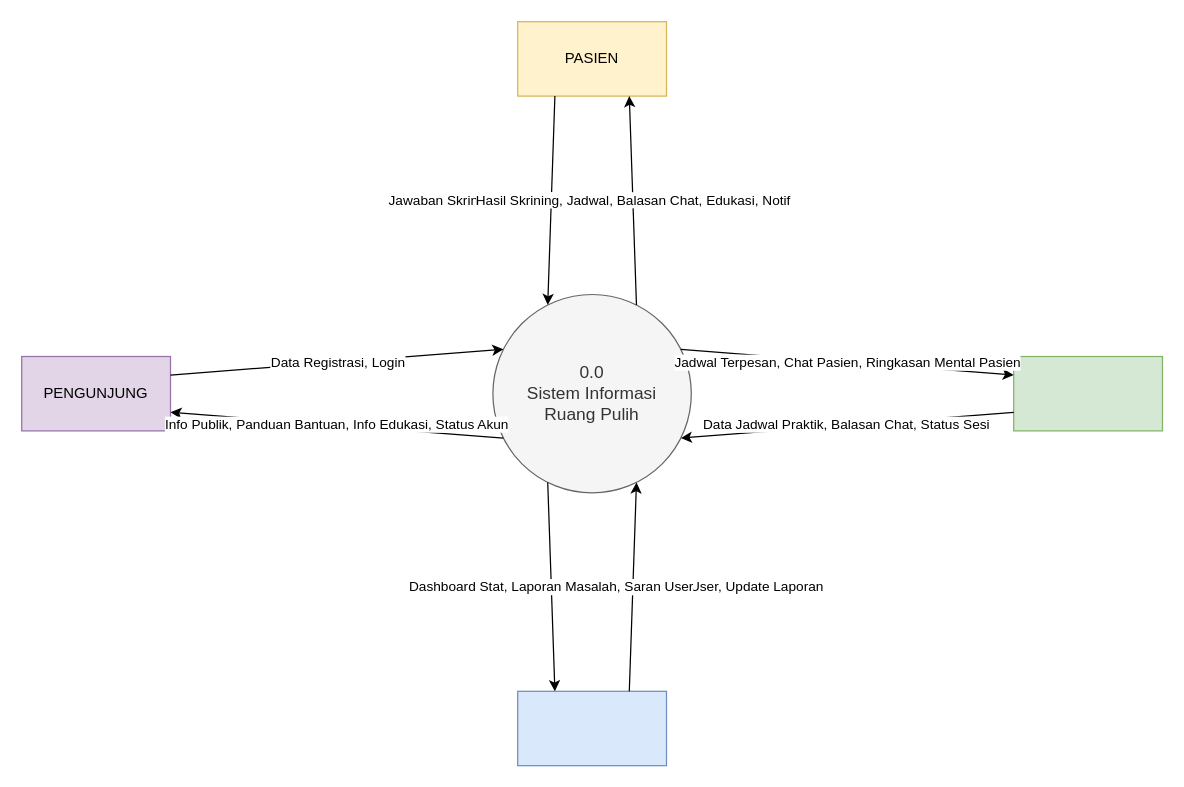
Image size: 1184x787. Some labels were removed from this diagram. The shapes that lost their labels are listed below. From the top down, each one's centre as x and y in pixels, then its label:
pixel 1087 393: PSIKOLOG
pixel 591 728: ADMIN
